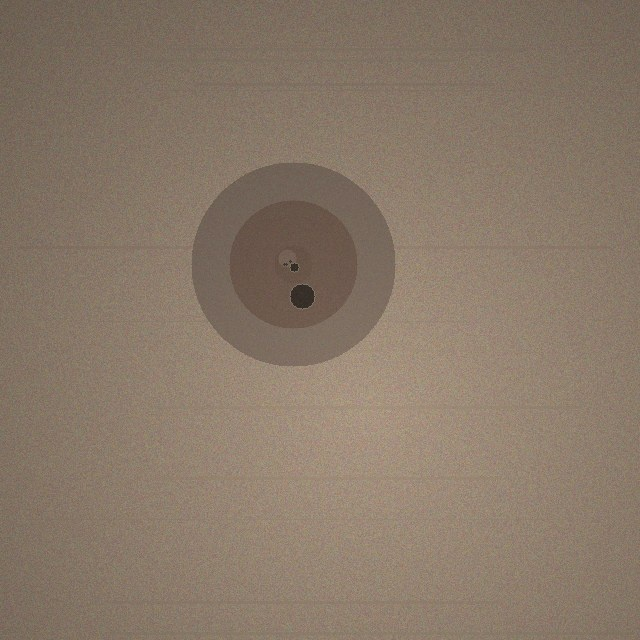shrinkage: (191, 162, 395, 366)
